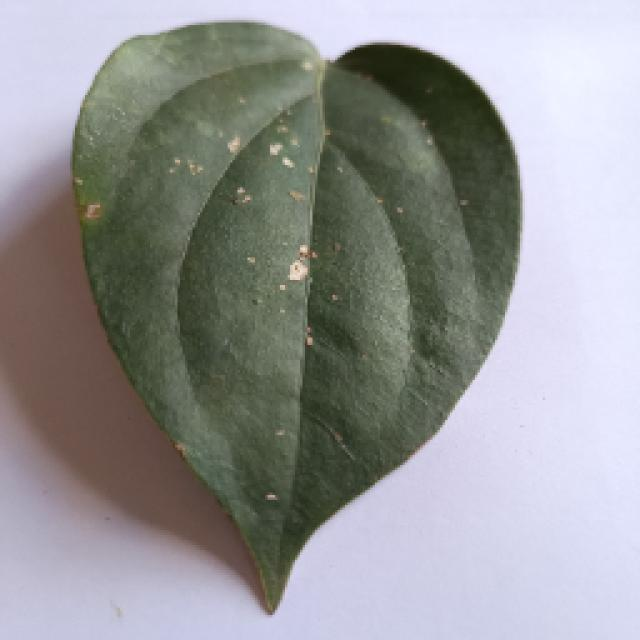pollu-disease: (25, 28, 545, 618)
